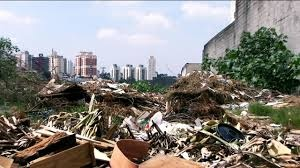rubble: (21, 110, 287, 168)
